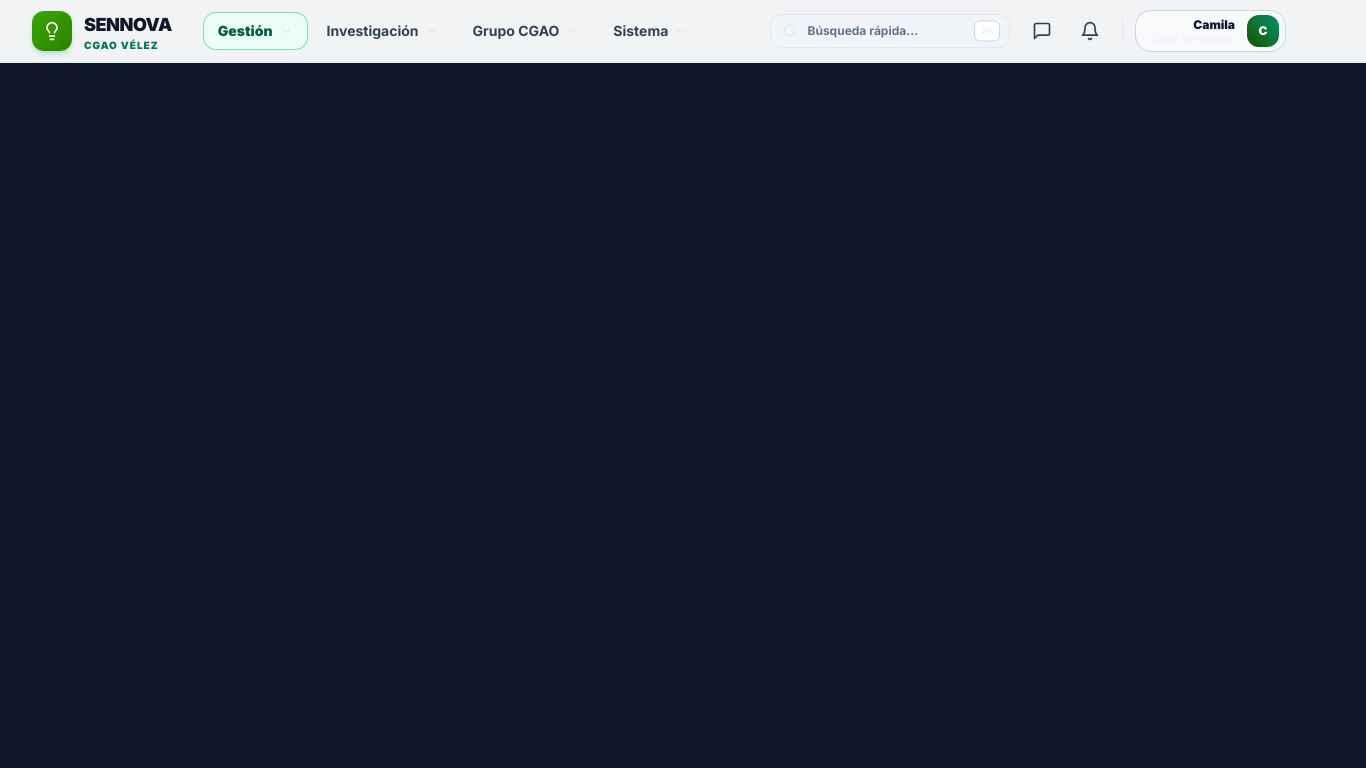
Test: comportamientos pendientes del Navbar › refresca notificaciones por eventos y marca todos los avisos como leídos
Click the button named "Notificaciones" at (1090,31), box [1070,11,1110,51]
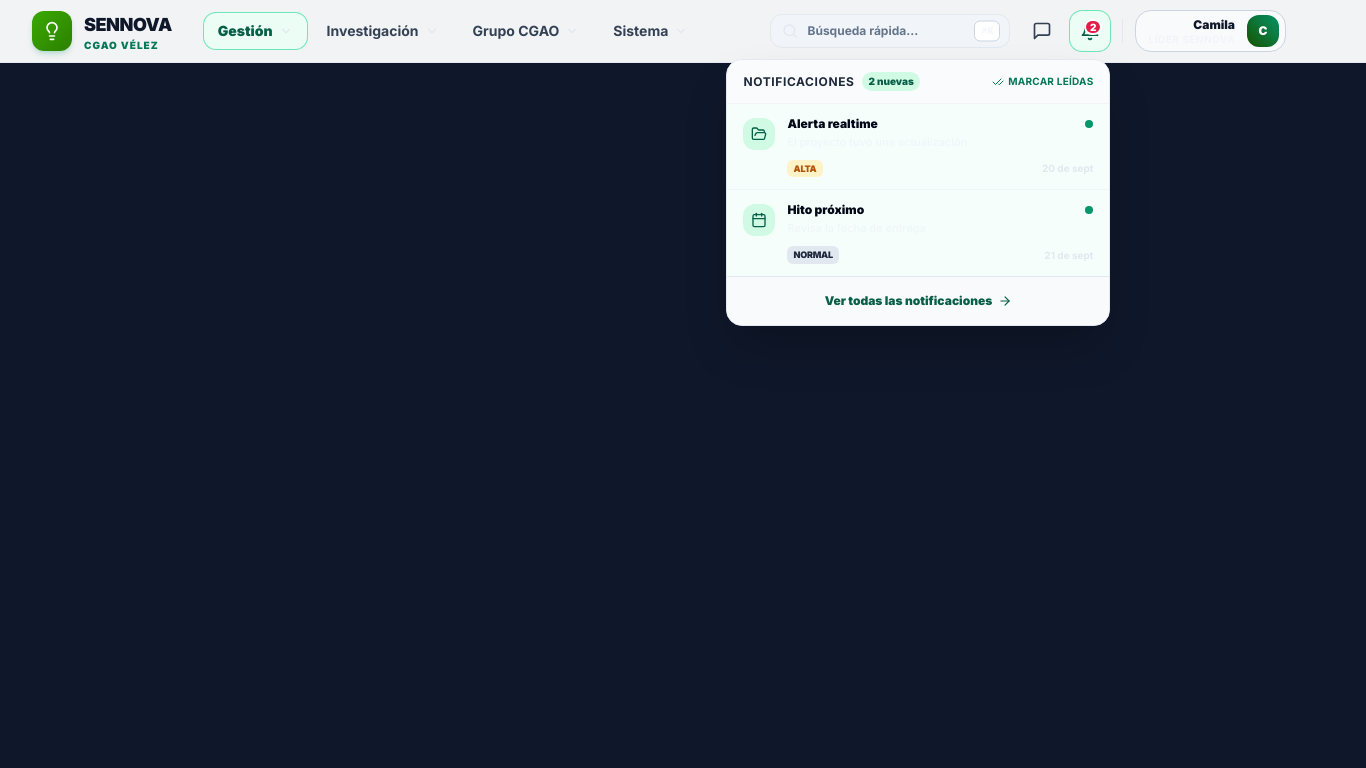
Result: the text "Alerta realtime" is shown at [788,116,878,132]
Click the button "Marcar leídas" at (1043,82), box [992,74,1094,89]
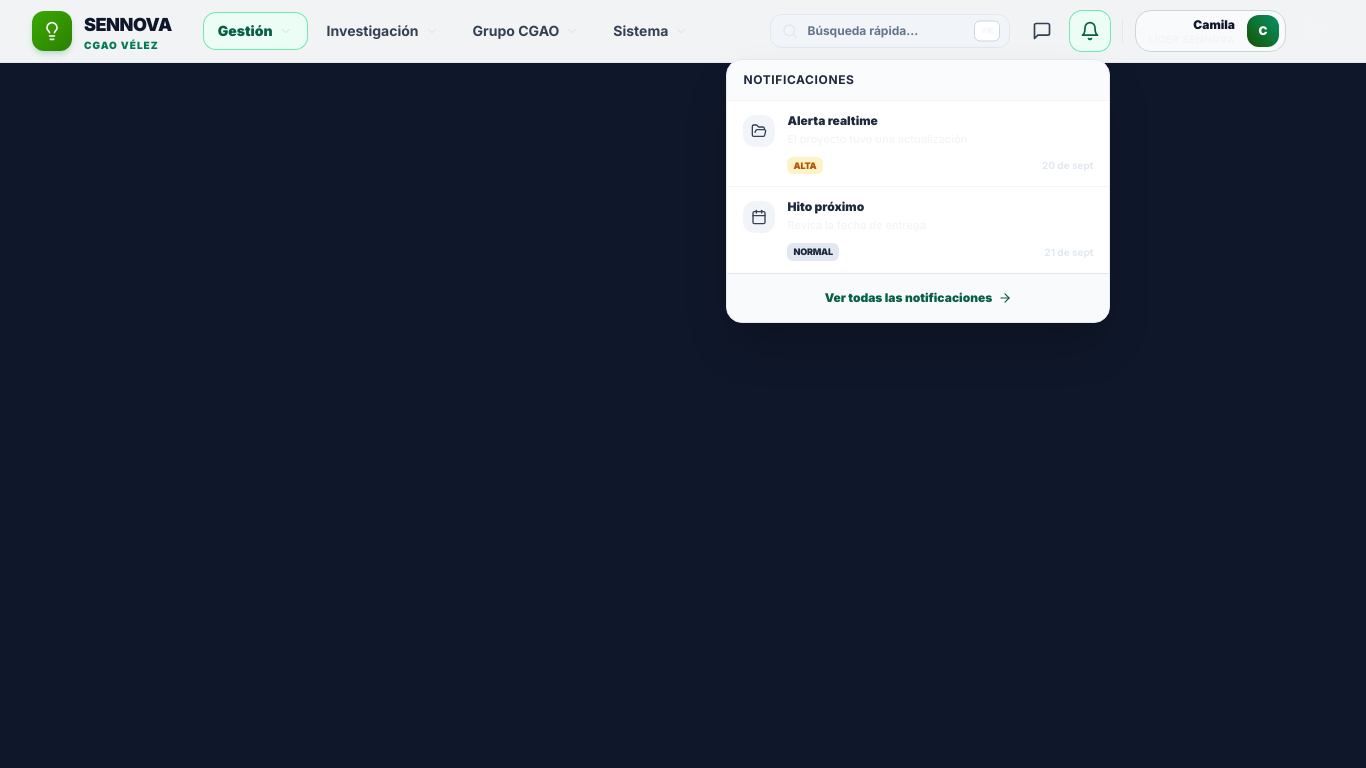
Result: the button "Marcar leídas" is gone
Result: the text "2 nuevas" is gone
Click the button named "Notificaciones" at (1090,31), box [1070,11,1110,51]
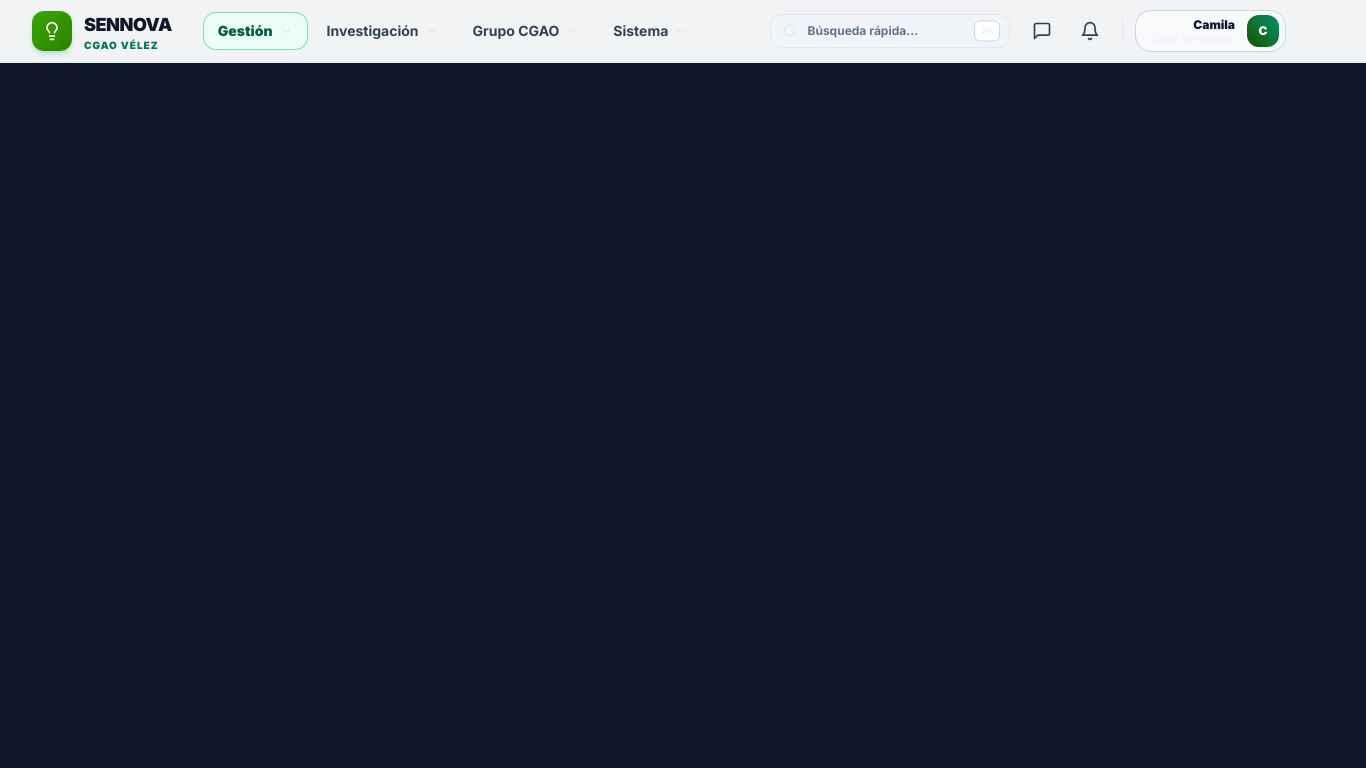
Result: the button "Alerta realtime" is gone
Click the button named "Notificaciones" at (1090,31), box [1070,11,1110,51]
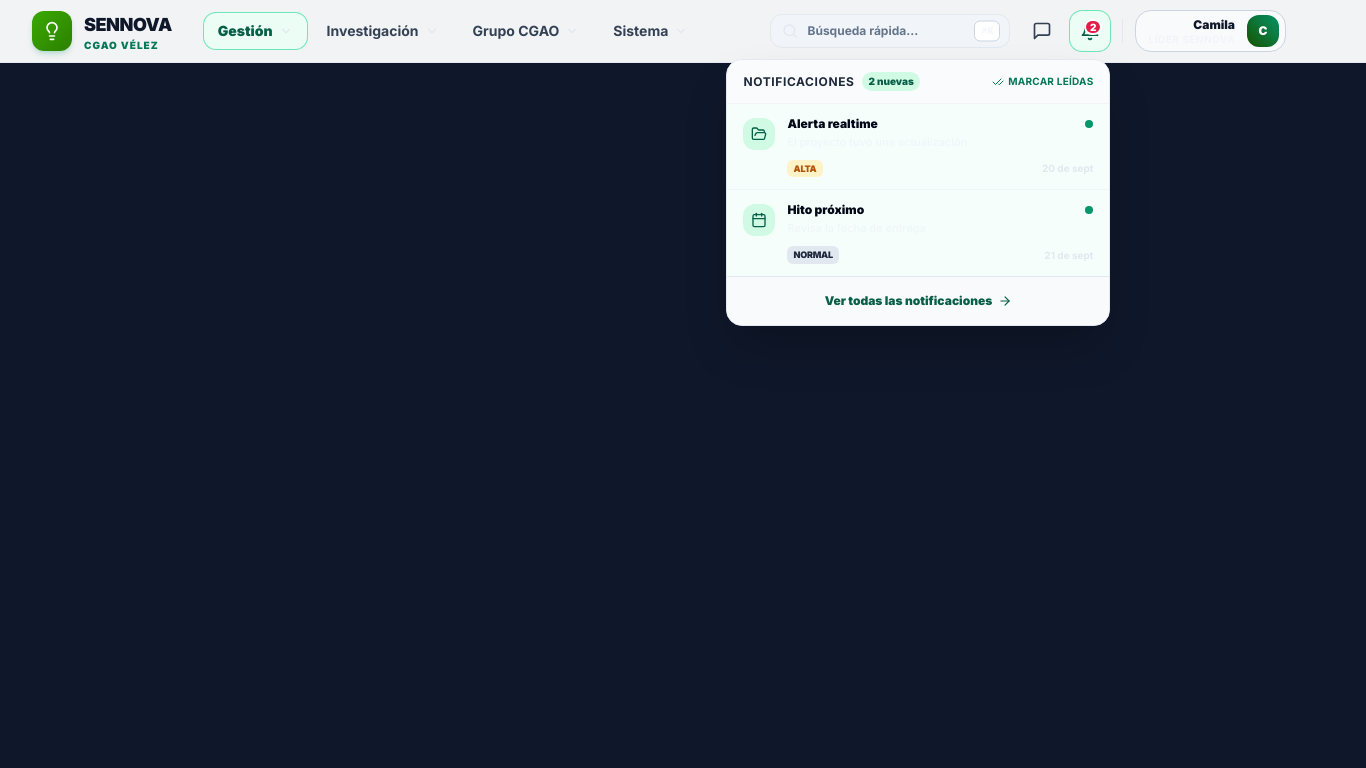
Result: the text "Alerta realtime" is shown at [788,116,878,132]
Press the mouse on the element that starts with "SENNOVA" at (683,384), box [0,0,1365,767]
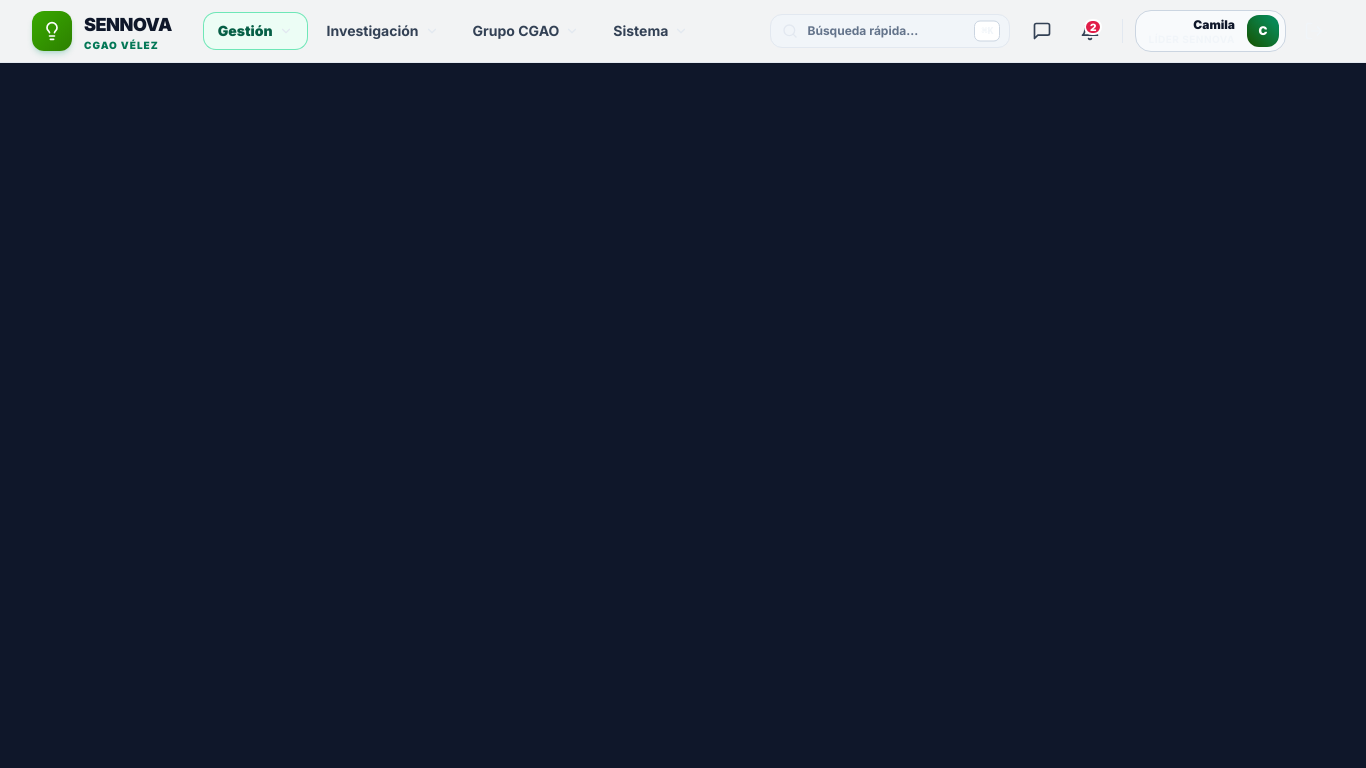
Expected: the header is shown, [0,0,1365,63]
Result: the button "Alerta realtime" is gone
